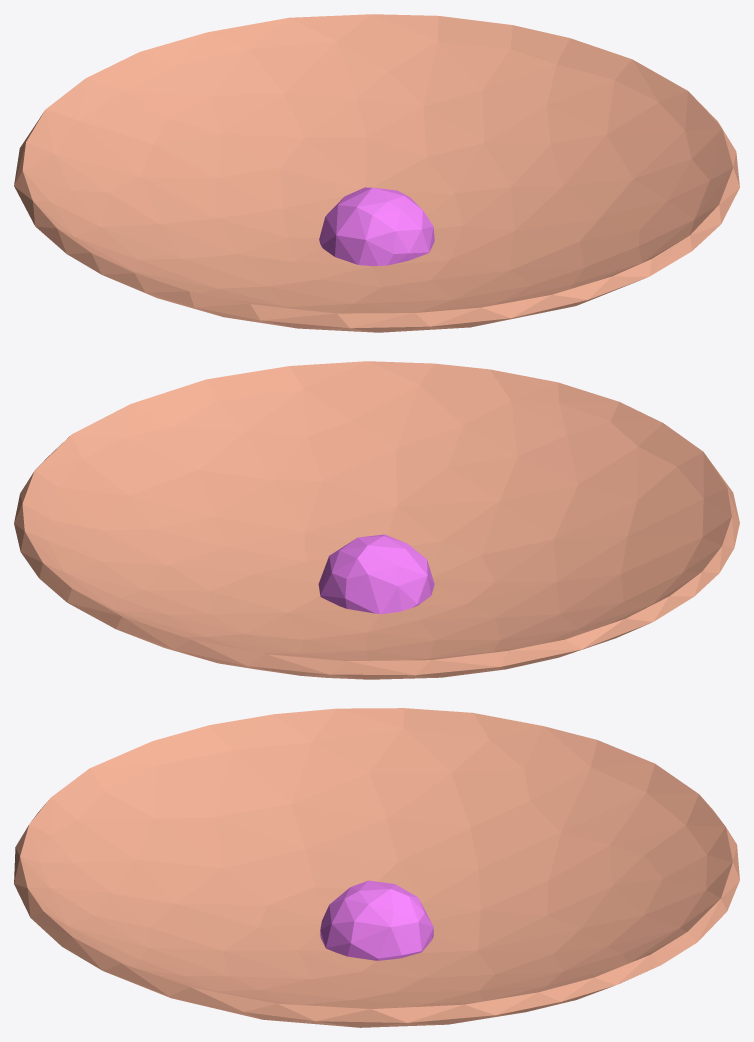
Rendered from antenna_low.fbx.
The picture shows the model from 3 angles, top to bottom: view 1: azimuth 30°, elevation 25°; view 2: azimuth 150°, elevation 25°; view 3: azimuth 270°, elevation 25°; orthographic projection.
Parts seen in each view (by area): view 1: pCylinder1; view 2: pCylinder1; view 3: pCylinder1.
Part boxes in pixels (box(x1,y1,x2,y2)): pCylinder1: box(14, 14, 739, 332); pCylinder1: box(14, 361, 739, 679); pCylinder1: box(14, 708, 739, 1027).
Size of the model in its own units: 10.05 by 2.04 by 10.03.
